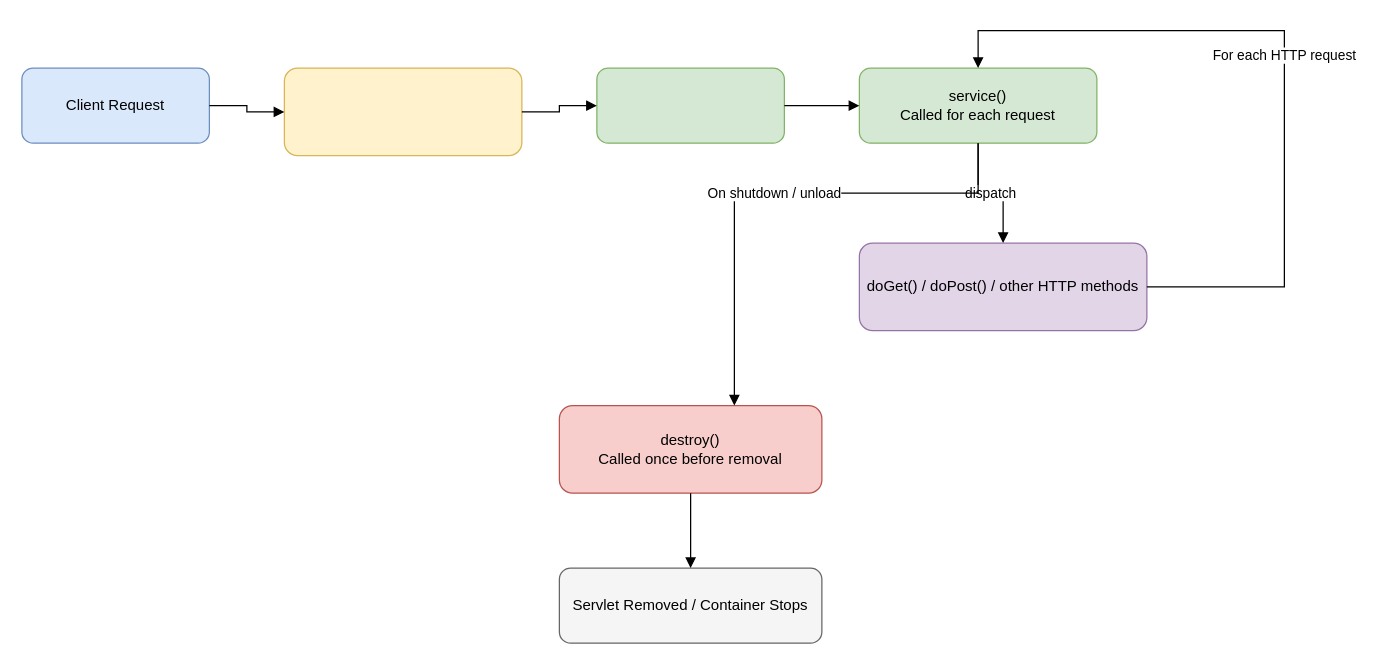
Some shapes in this 1378 by 665 pixel diagram are drawn without their labels. The box of each missing label's shape, as (x1, y1, x2, y2) in pixels:
init() Called once: (596, 67, 784, 143)
Servlet Container Loads / Instantiates Servlet: (283, 67, 522, 156)
